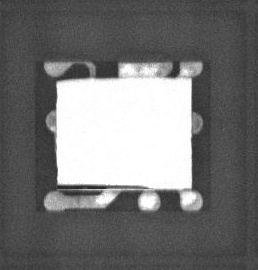DIE_BROKEN: (54, 181, 152, 191)
